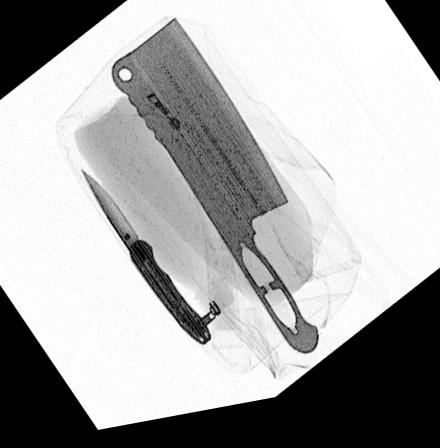Knife: (109, 23, 319, 367), (80, 171, 212, 354)
